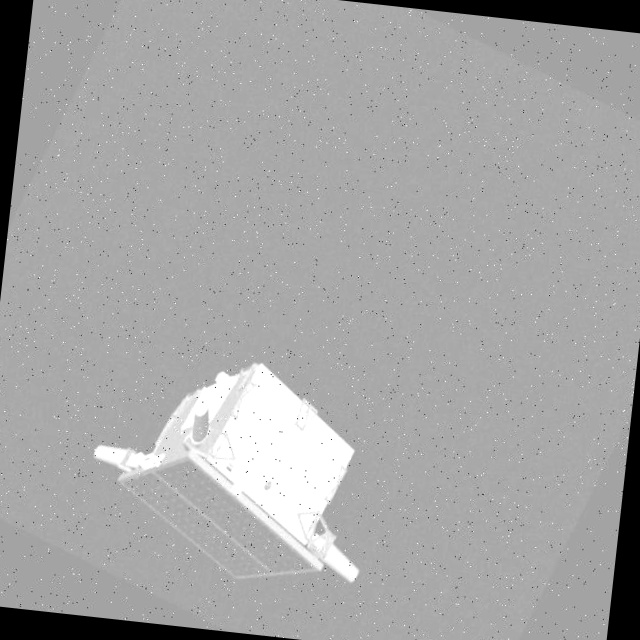satellite: (77, 342, 404, 602)
